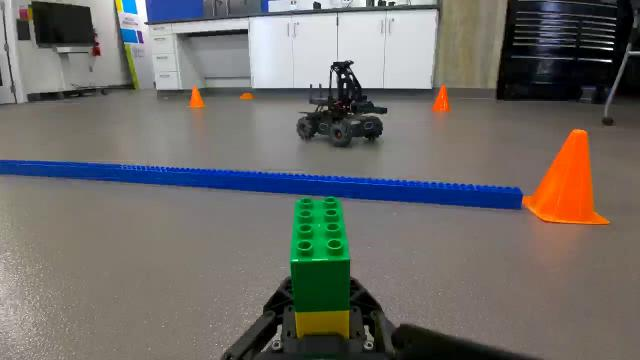robot: (293, 57, 393, 147)
